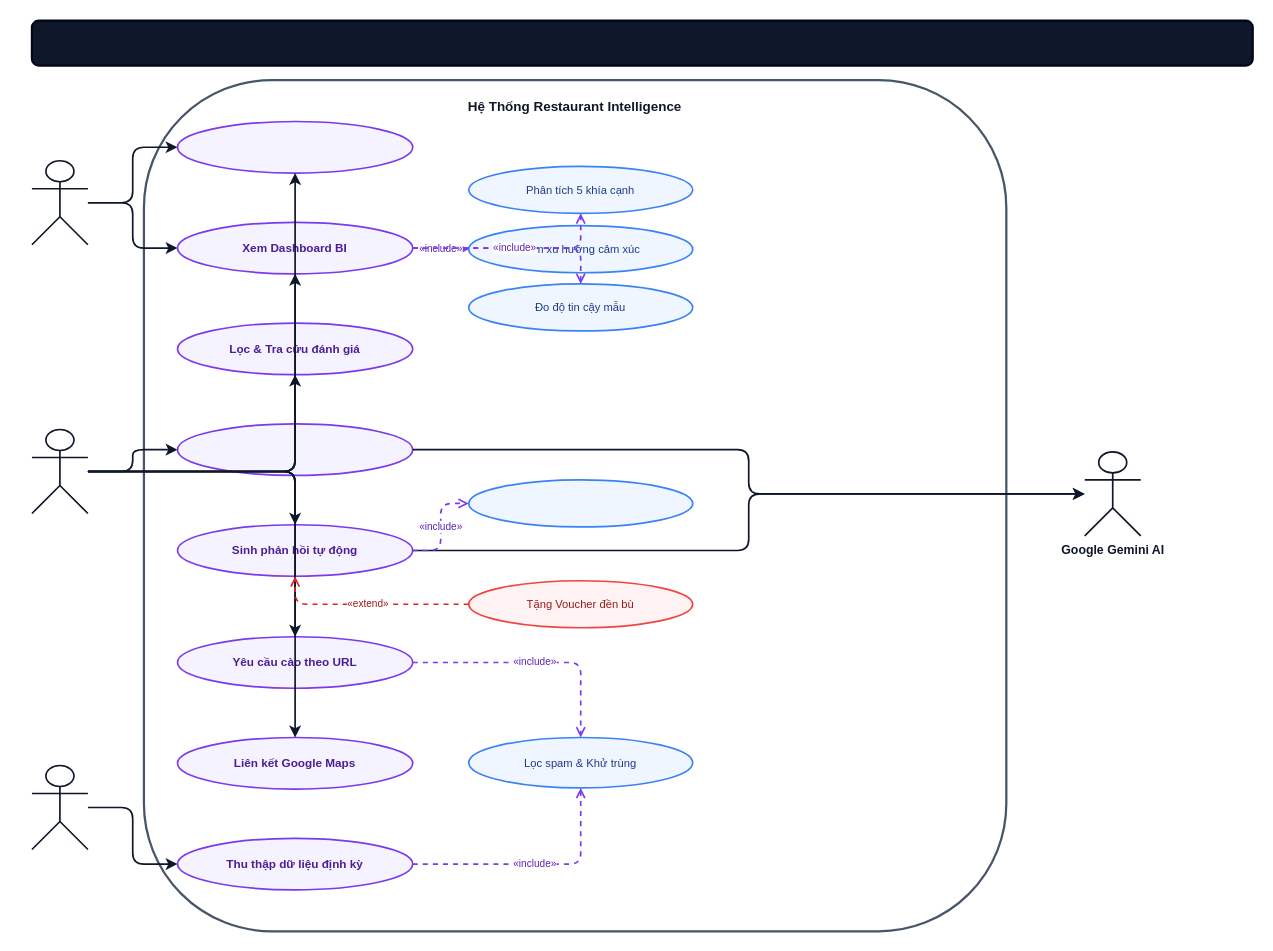
This 1273x951 diagram has some shape labels left out. Each missing label, with the box of its shape:
Bộ lập lịch (Cron): (31, 764, 88, 850)
Chủ nhà hàng: (31, 428, 88, 514)
Hỏi đáp với Trợ lý AI: (176, 423, 413, 476)
Sao chép phản hồi: (467, 479, 693, 527)
SƠ ĐỒ USE CASE (UML USE CASE DIAGRAM): (30, 19, 1253, 66)
Thực khách: (31, 159, 88, 245)
Tìm kiếm quán ăn: (176, 120, 413, 173)
